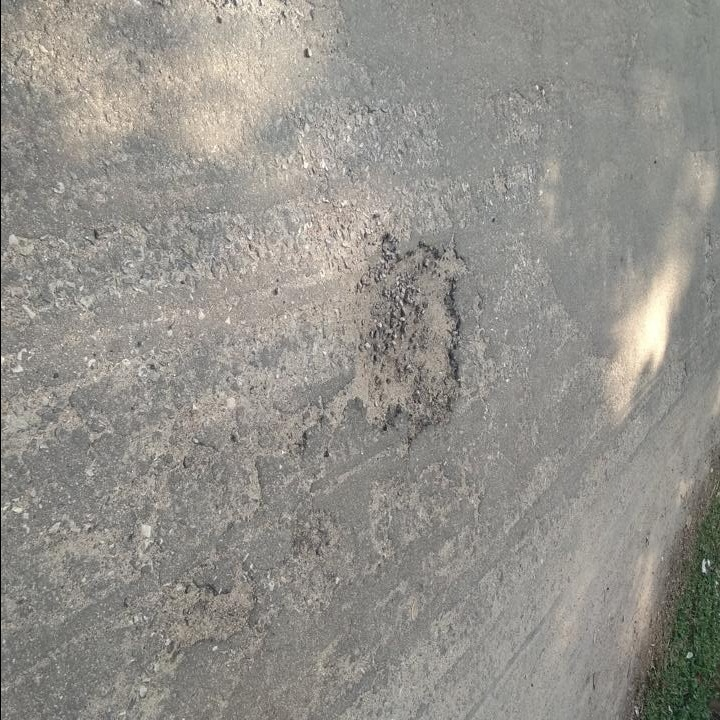pothole: (333, 226, 472, 437), (170, 572, 255, 648)
